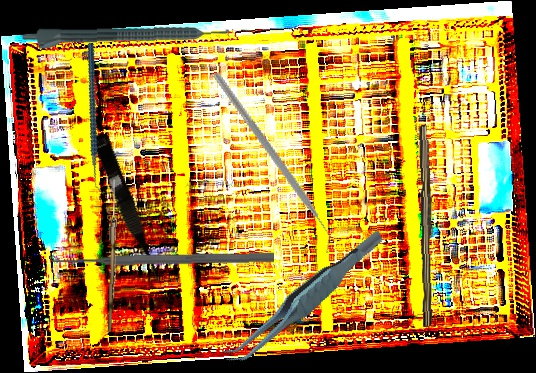Chopper: (165, 70, 377, 256), (47, 42, 146, 195)
Handpiece: (21, 25, 230, 52)
Micro Scissor: (87, 130, 169, 292)
Pusher: (51, 250, 275, 268)
Scalpel Handle: (415, 124, 439, 327)
Surgical Spoon: (107, 178, 118, 333)
Tissue Forceps: (204, 229, 404, 368)
